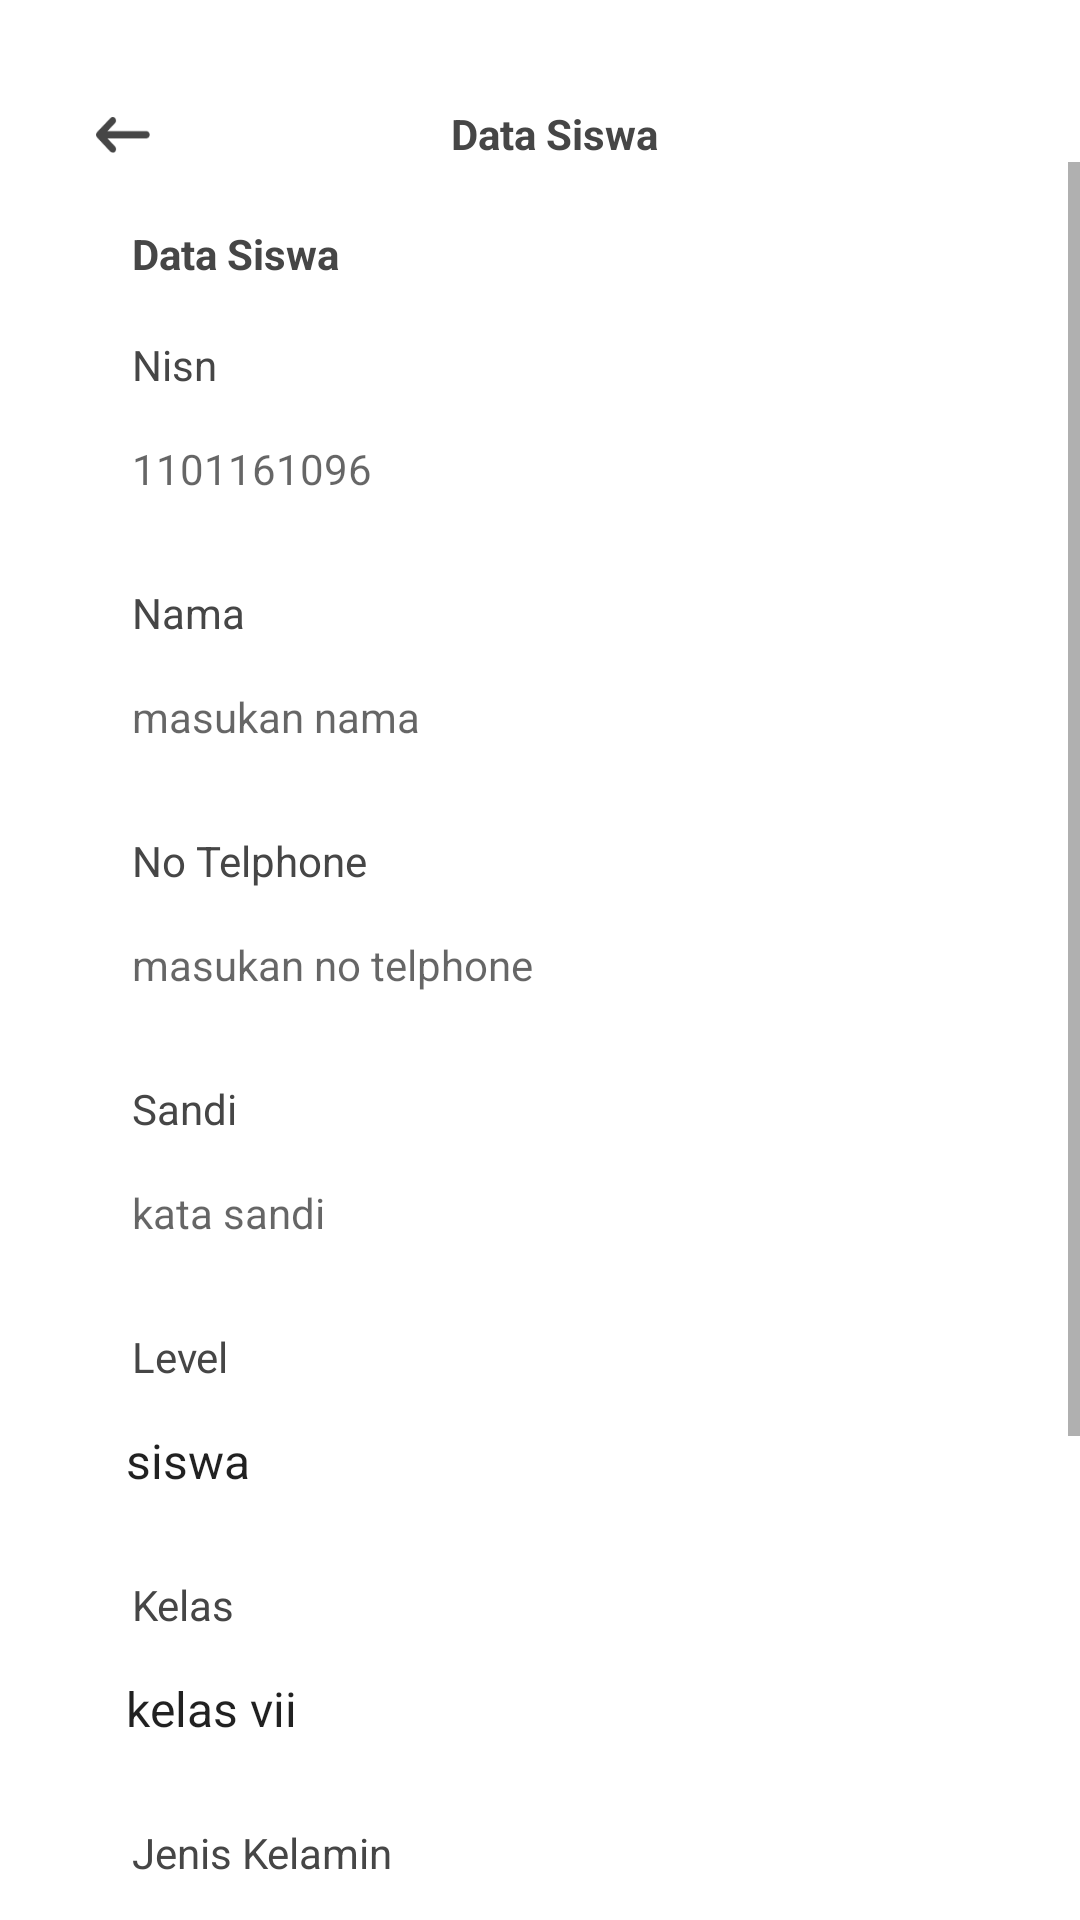

Screen size 1080x1920. Icon name, then its box in pixels as (x1, y1, x2, y2):
back: (96, 117, 150, 153)
